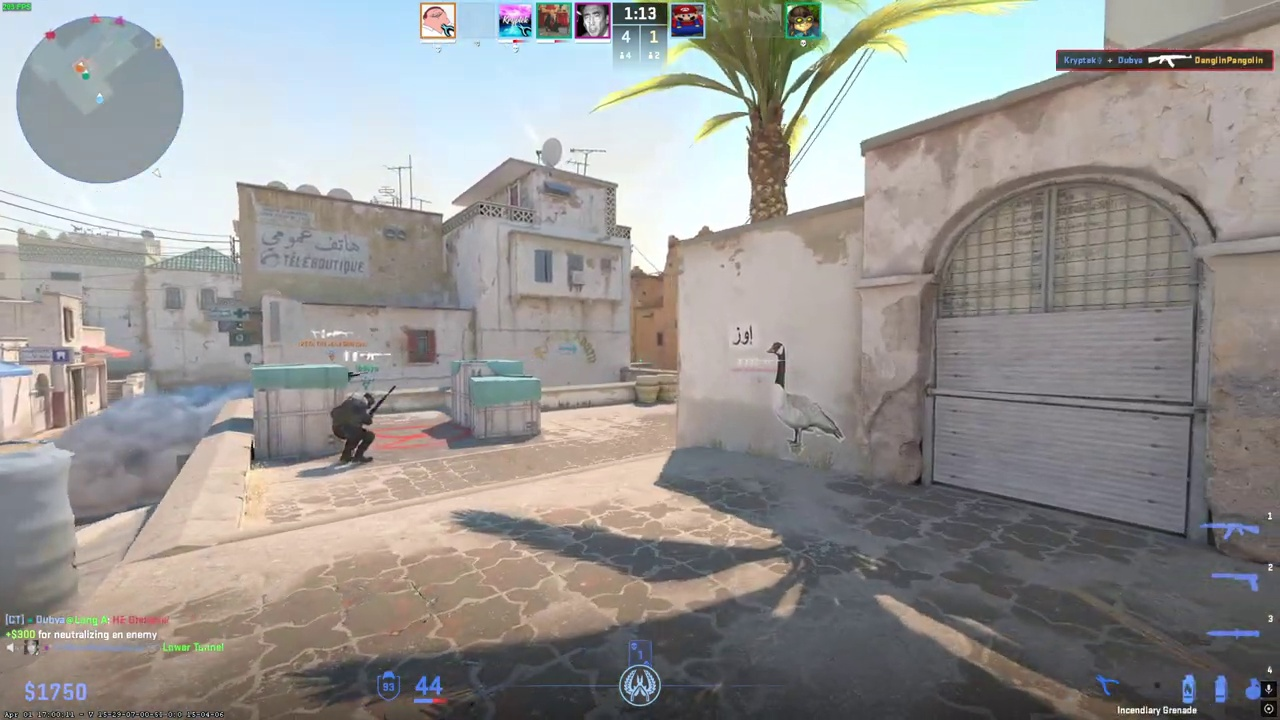CT: (336, 392, 377, 463)
